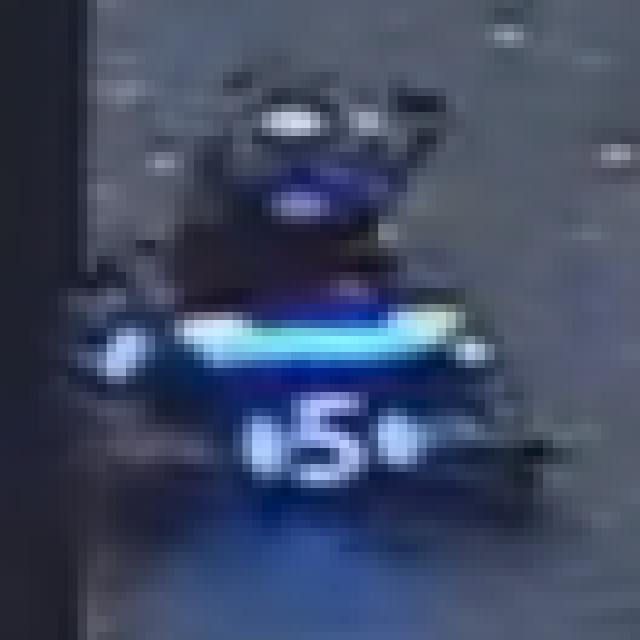B5: (214, 384, 436, 488)
